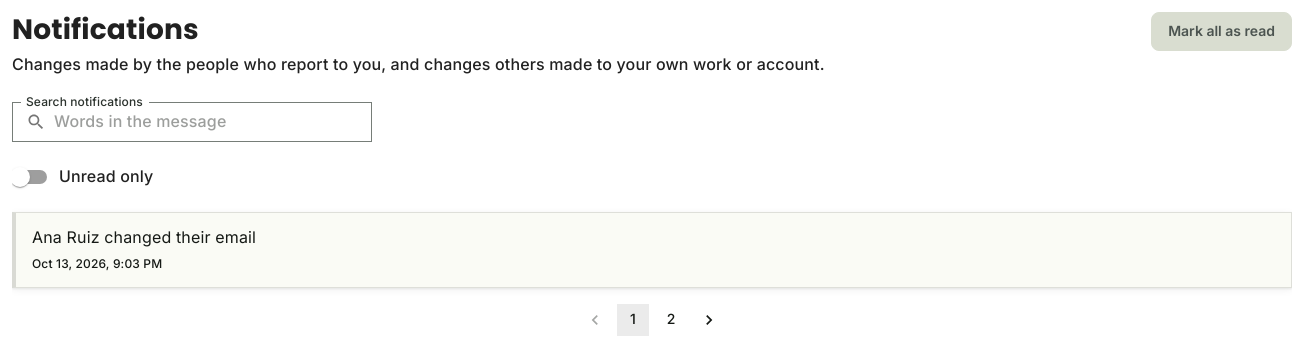
Test: NotificationsPage › steps back to the last page that exists when marking the last unread one empties an unread-only page
The image size is (1304, 353).
Expected: the list item "Ana Ruiz changed their email Oct 13, 2026, 9:03 PM" is shown, [12,212,1292,288]
Click the button named "go to page 2".
click(671, 320)  # box [655,304,687,336]
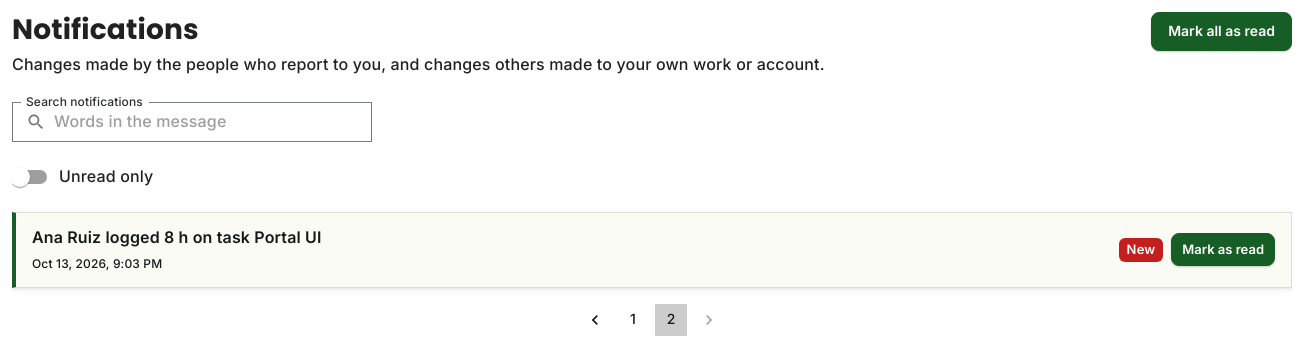
Click the button "Mark as read".
click(1223, 250)  # box [1171,233,1275,266]
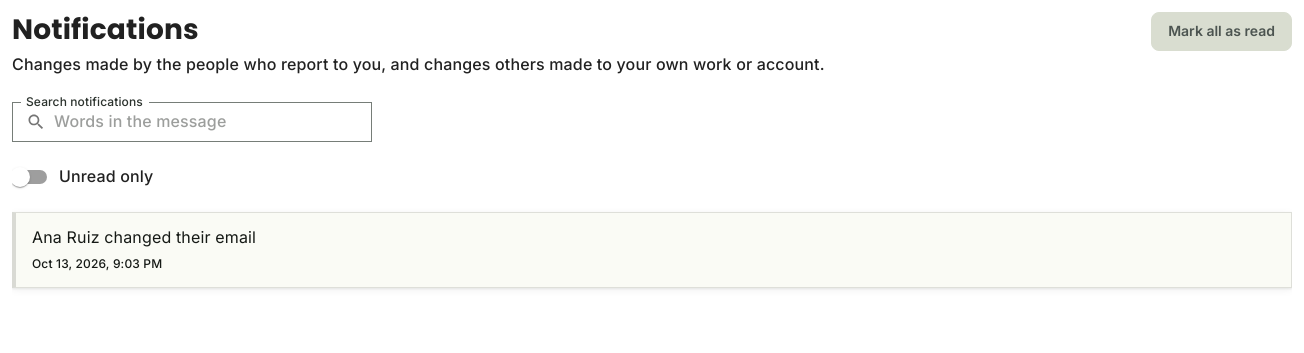
Expected: the list item "Ana Ruiz changed their email Oct 13, 2026, 9:03 PM" is shown, [12,212,1292,288]
